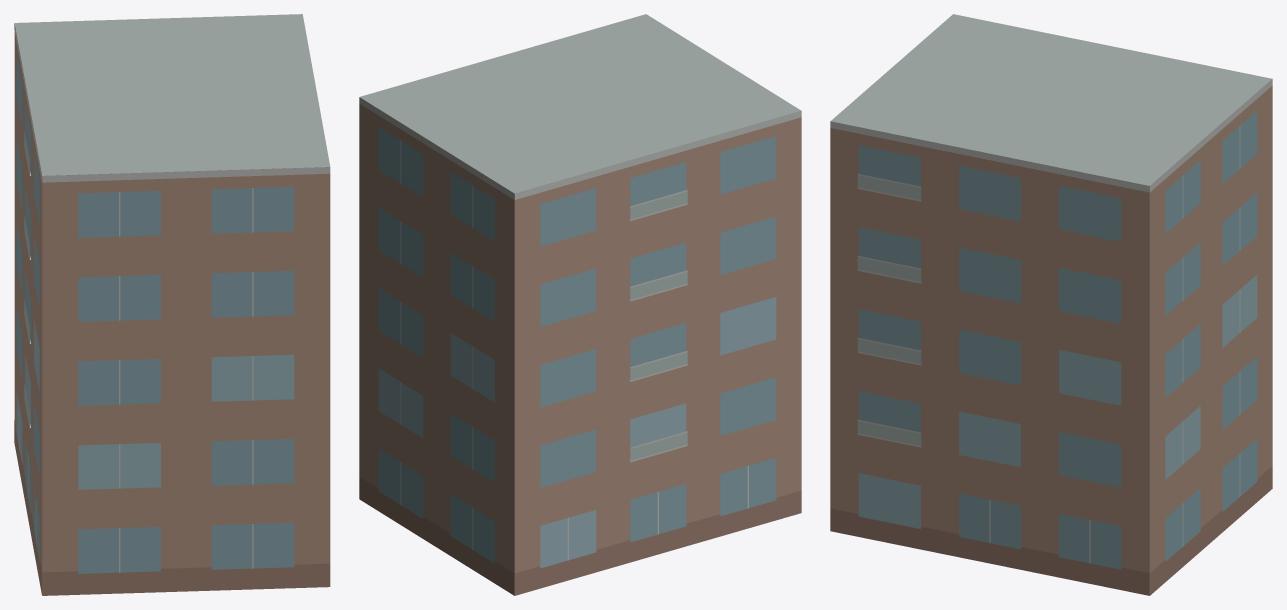
File: survey-upis-32524606.glb
3 views of the same model, side by side, from view 1: azimuth 30°, elevation 25°; view 2: azimuth 150°, elevation 25°; view 3: azimuth 270°, elevation 25° (orthographic). The views are drawn at different scales.
Parts seen in each view (by area): view 1: survey-upis-32524606.tmp; view 2: survey-upis-32524606.tmp; view 3: survey-upis-32524606.tmp.
Part boxes in pixels (x1,y1,x2,y2): survey-upis-32524606.tmp: [14, 14, 330, 595]; survey-upis-32524606.tmp: [359, 14, 801, 595]; survey-upis-32524606.tmp: [830, 14, 1272, 595].
Size of the model in its own units: 13.69 by 15.2 by 14.87.
